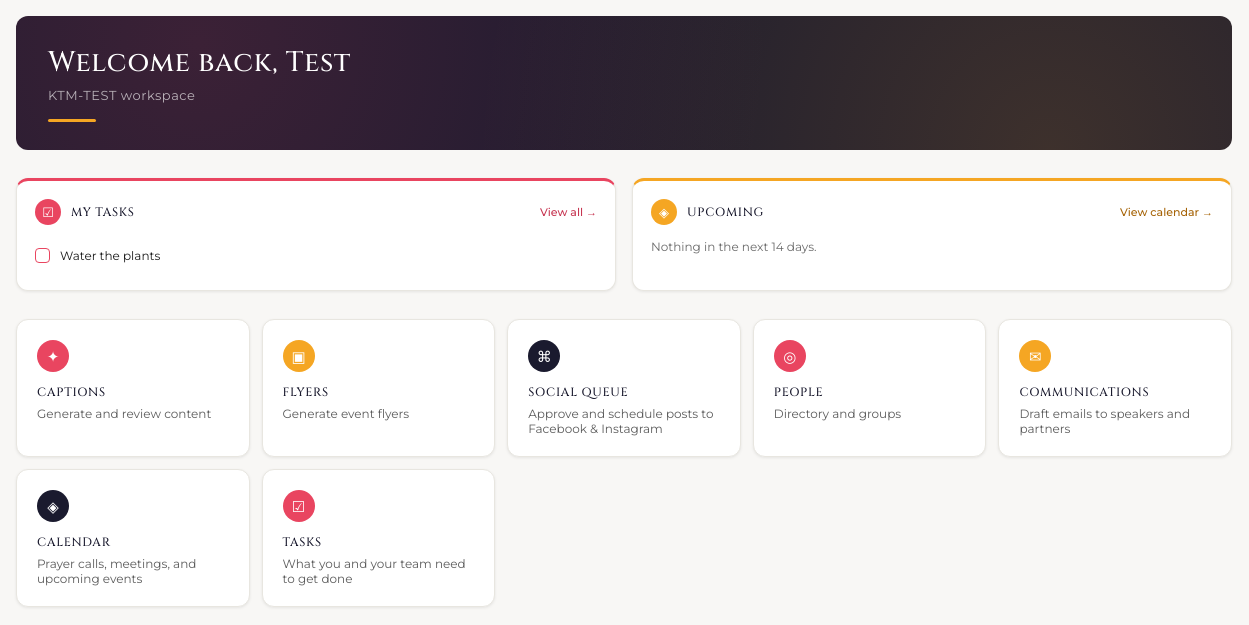
Test: My Tasks and Upcoming widgets › completing a task removes it from the list
Click the button titled "Mark complete" at (42, 256), box [35, 248, 50, 263]
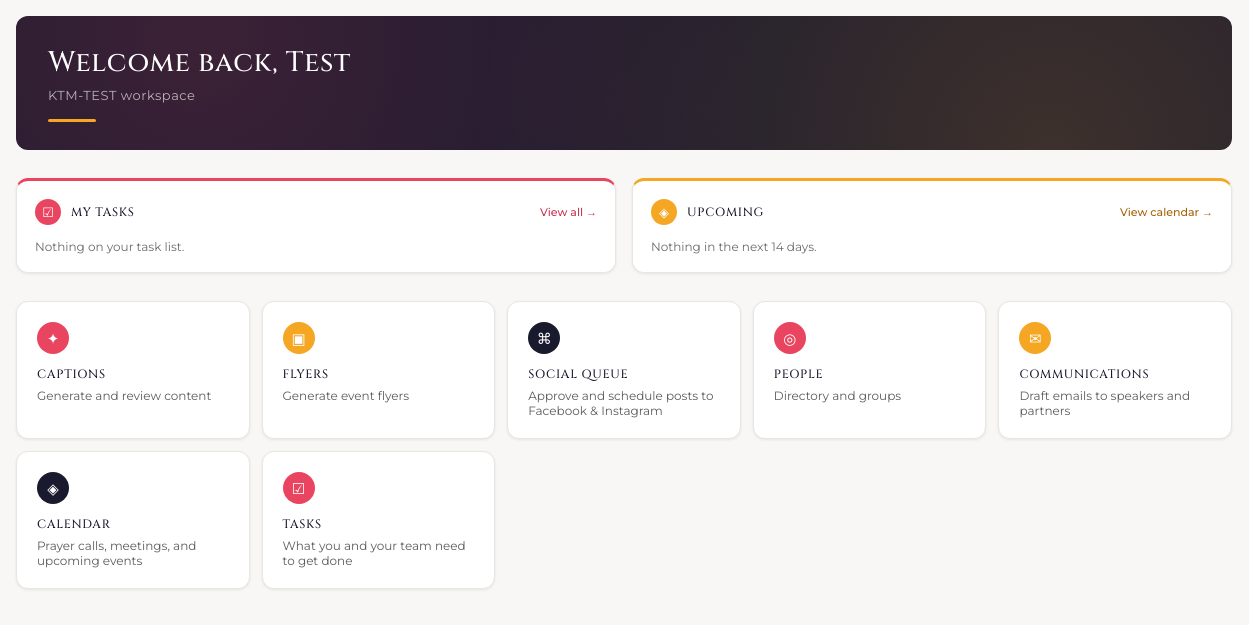
Expected: the text "Water the plants" is gone
